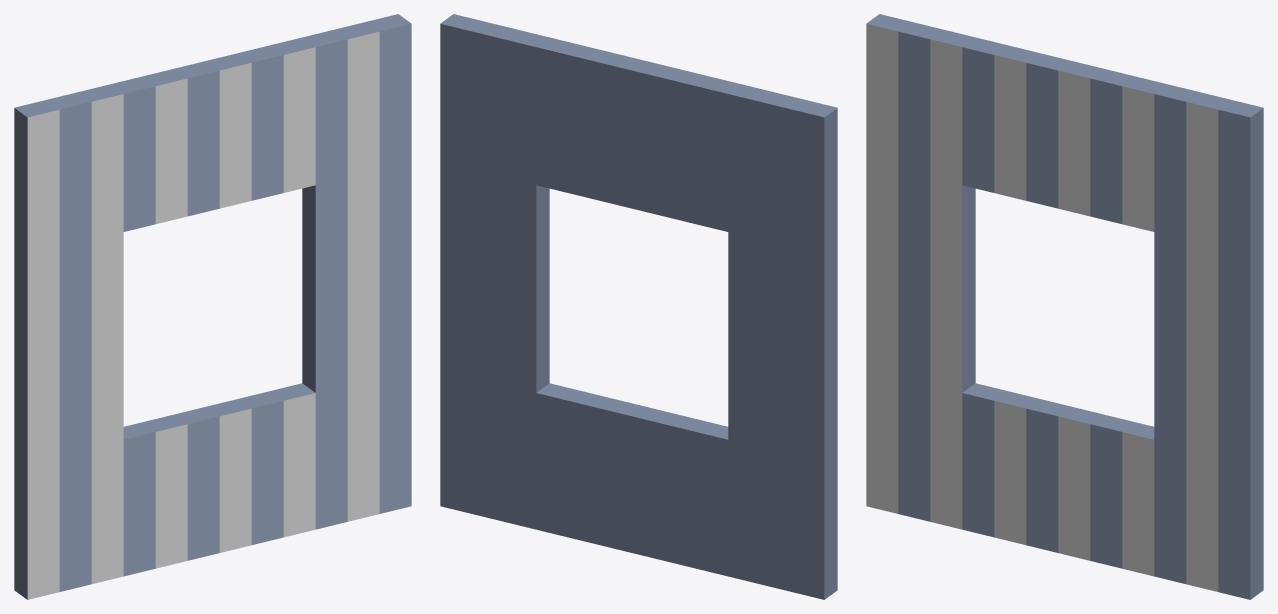
The model's file is Wall3_C8_04.fbx.
3 views of the same model, side by side, from view 1: azimuth 30°, elevation 25°; view 2: azimuth 150°, elevation 25°; view 3: azimuth 330°, elevation 25° (orthographic).
Parts seen in each view (by area): view 1: Wall3_C8_04; view 2: Wall3_C8_04; view 3: Wall3_C8_04.
Part boxes in pixels (x1,y1,x2,y2): Wall3_C8_04: (14,14,411,599); Wall3_C8_04: (440,14,837,599); Wall3_C8_04: (866,14,1263,599).
Bounding box in the file's own units: 250 × 300 × 15.
